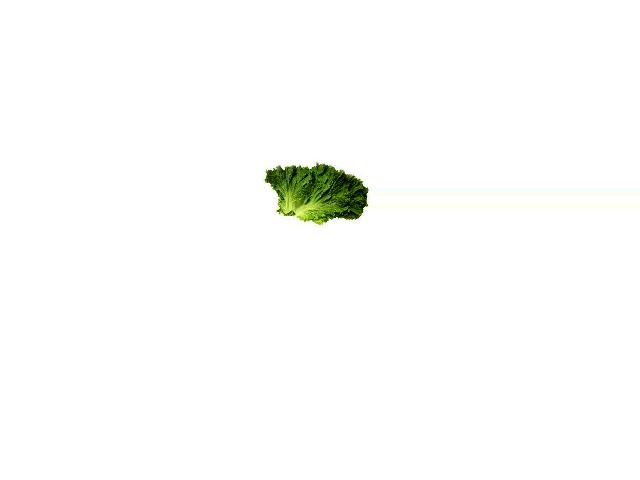lettuce: (265, 156, 368, 228)
